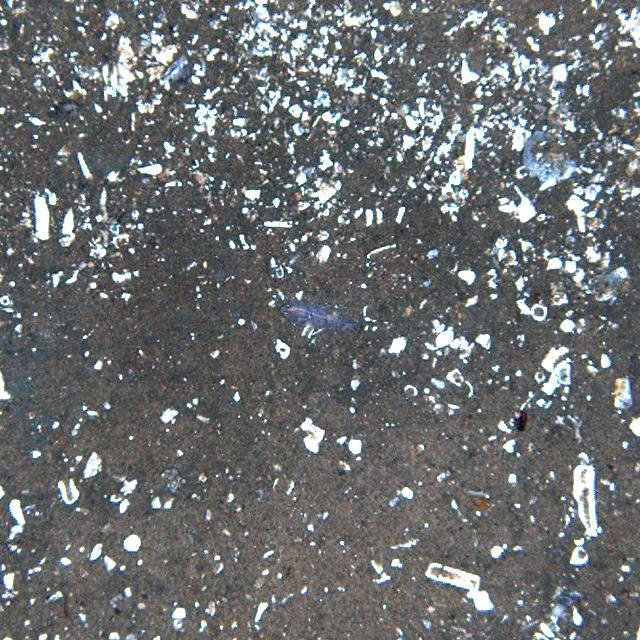flatfish: (279, 296, 366, 340)
